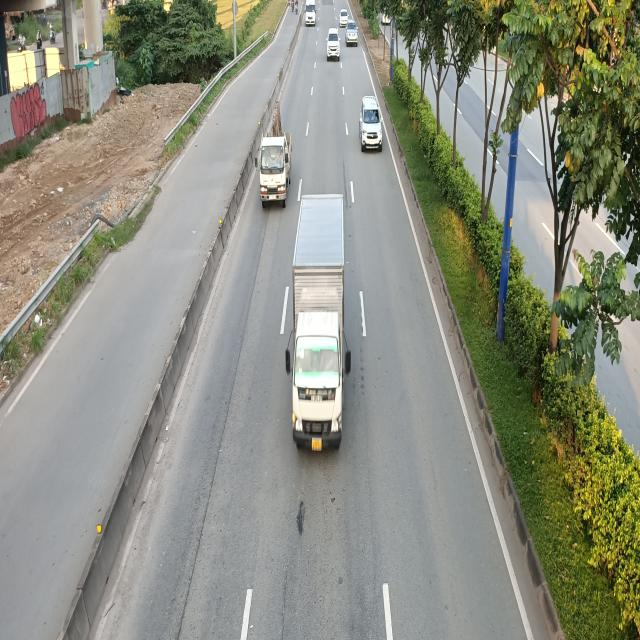car: (358, 97, 382, 152), (326, 27, 340, 60), (346, 20, 360, 46)
truck: (284, 192, 349, 450), (257, 102, 293, 208)
van: (304, 0, 316, 26)
